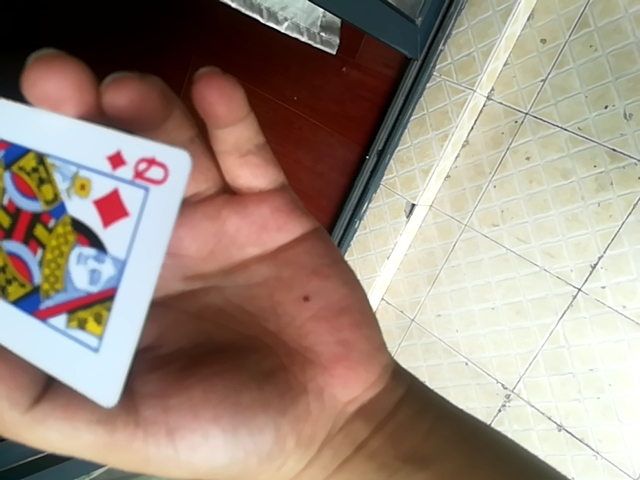fk q: (0, 44, 187, 415)
